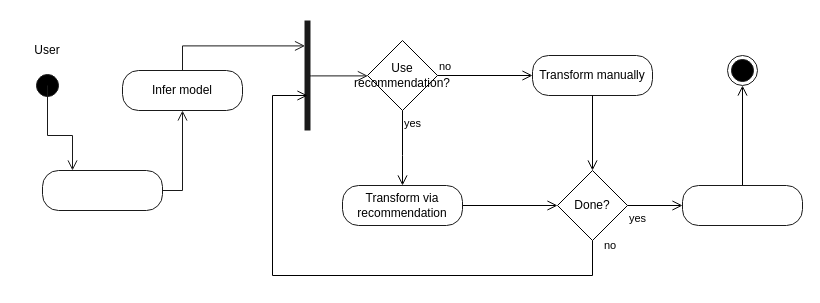
Some shapes in this 820 by 303 pixel diagram are drawn without their labels. Each missing label, with the box of its shape:
Export RDF: (682, 184, 802, 226)
Load structured data: (42, 170, 162, 210)
